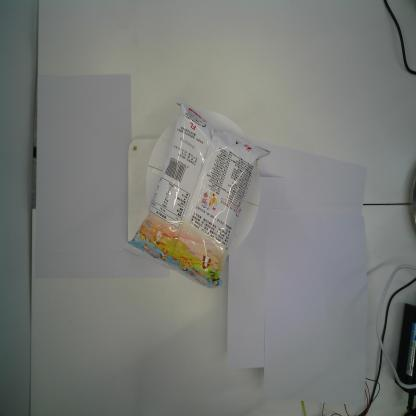Puffed Food: (124, 100, 270, 289)
